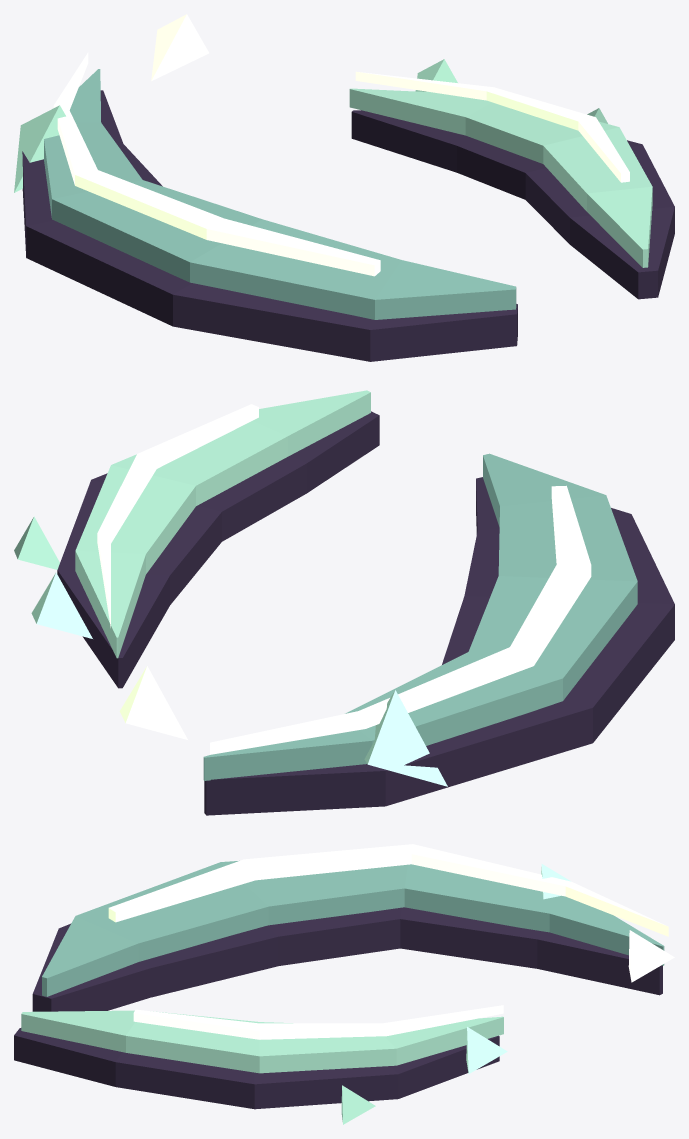
The model's file is undead_small_spirit_claws_v3_bracket_failed_20260913.glb.
3 renders of one model, top to bottom at view 1: azimuth 30°, elevation 25°; view 2: azimuth 150°, elevation 25°; view 3: azimuth 270°, elevation 25°, orthographic. The views are drawn at different scales.
Parts seen in each view (by area): view 1: ClawA_Body, ClawA_Dark, ClawB_Body, ClawB_Dark, ClawA_Core, ClawB_Core, ShardB, ShardA, ShardC; view 2: ClawA_Body, ClawA_Dark, ClawB_Body, ClawB_Dark, ClawA_Core, ClawB_Core, ShardA, ShardB, ShardC, ShardD; view 3: ClawA_Body, ClawA_Dark, ClawB_Dark, ClawB_Body, ClawA_Core, ClawB_Core, ShardB, ShardC, ShardD.
Boxes of the visible parts, x1,y1,x2,y2 form: ClawA_Body: (44, 69, 516, 319); ClawA_Dark: (22, 90, 517, 361); ClawB_Body: (349, 88, 652, 267); ClawB_Dark: (351, 110, 674, 299); ClawA_Core: (53, 52, 380, 276); ClawB_Core: (355, 71, 629, 182); ShardB: (151, 14, 208, 81); ShardA: (14, 105, 65, 192); ShardC: (415, 59, 457, 92); ClawA_Body: (203, 453, 637, 780); ClawA_Dark: (204, 477, 674, 815); ClawB_Body: (75, 390, 370, 658); ClawB_Dark: (57, 411, 379, 688); ClawA_Core: (210, 485, 591, 754); ClawB_Core: (97, 404, 258, 627); ShardA: (364, 690, 447, 786); ShardB: (119, 666, 187, 739); ShardC: (31, 572, 92, 638); ShardD: (14, 516, 59, 569); ClawA_Body: (42, 860, 664, 996); ClawA_Dark: (32, 907, 662, 1011); ClawB_Dark: (14, 1028, 499, 1109); ClawB_Body: (21, 1010, 503, 1073); ClawA_Core: (108, 844, 668, 936); ClawB_Core: (133, 1005, 503, 1039); ShardB: (628, 930, 674, 982); ShardC: (466, 1027, 507, 1073); ShardD: (341, 1085, 375, 1124).
Bounding box in the file's own units: 0.9461 × 0.1693 × 1.06.
